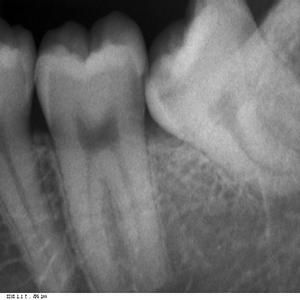tooth: (36, 21, 150, 269), (144, 2, 297, 184), (0, 17, 40, 271)
